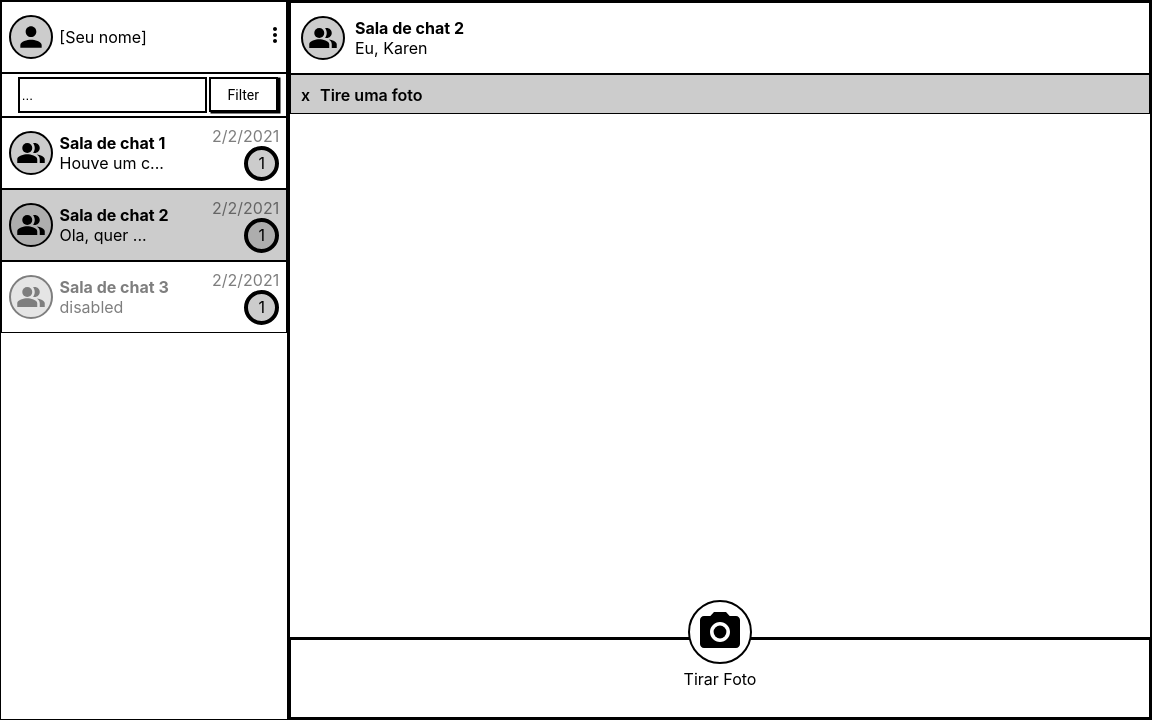
Test: Test take picture with cam and upload Interaction › trying to switch between activeSessions while taking Picture or sending File › find Sala de chat 1 and click then make sure State is reset
Click the text "Sala de chat 1". click: click(113, 143)
box: top-left (60, 133), bottom-right (166, 153)
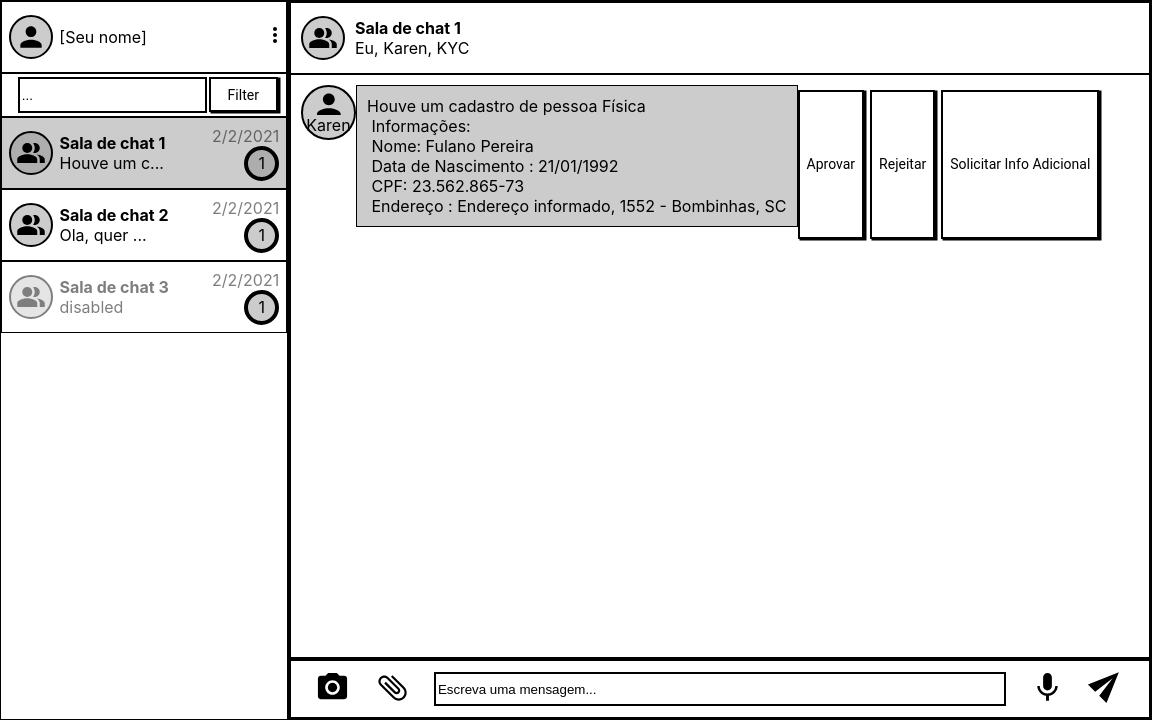
Expected: the element with test id "takePictureWithCamContainer" is gone
Expected: the icon with test id "UploadPictureActionBarTakePicture" is gone
